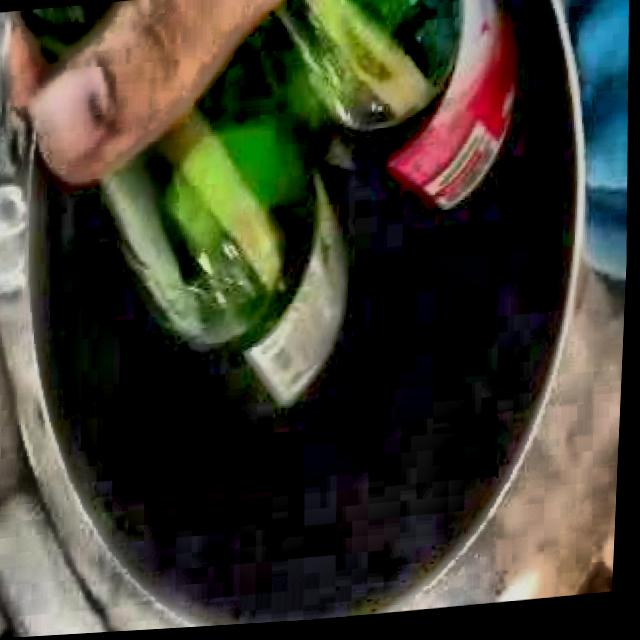glass: (106, 0, 514, 407)
